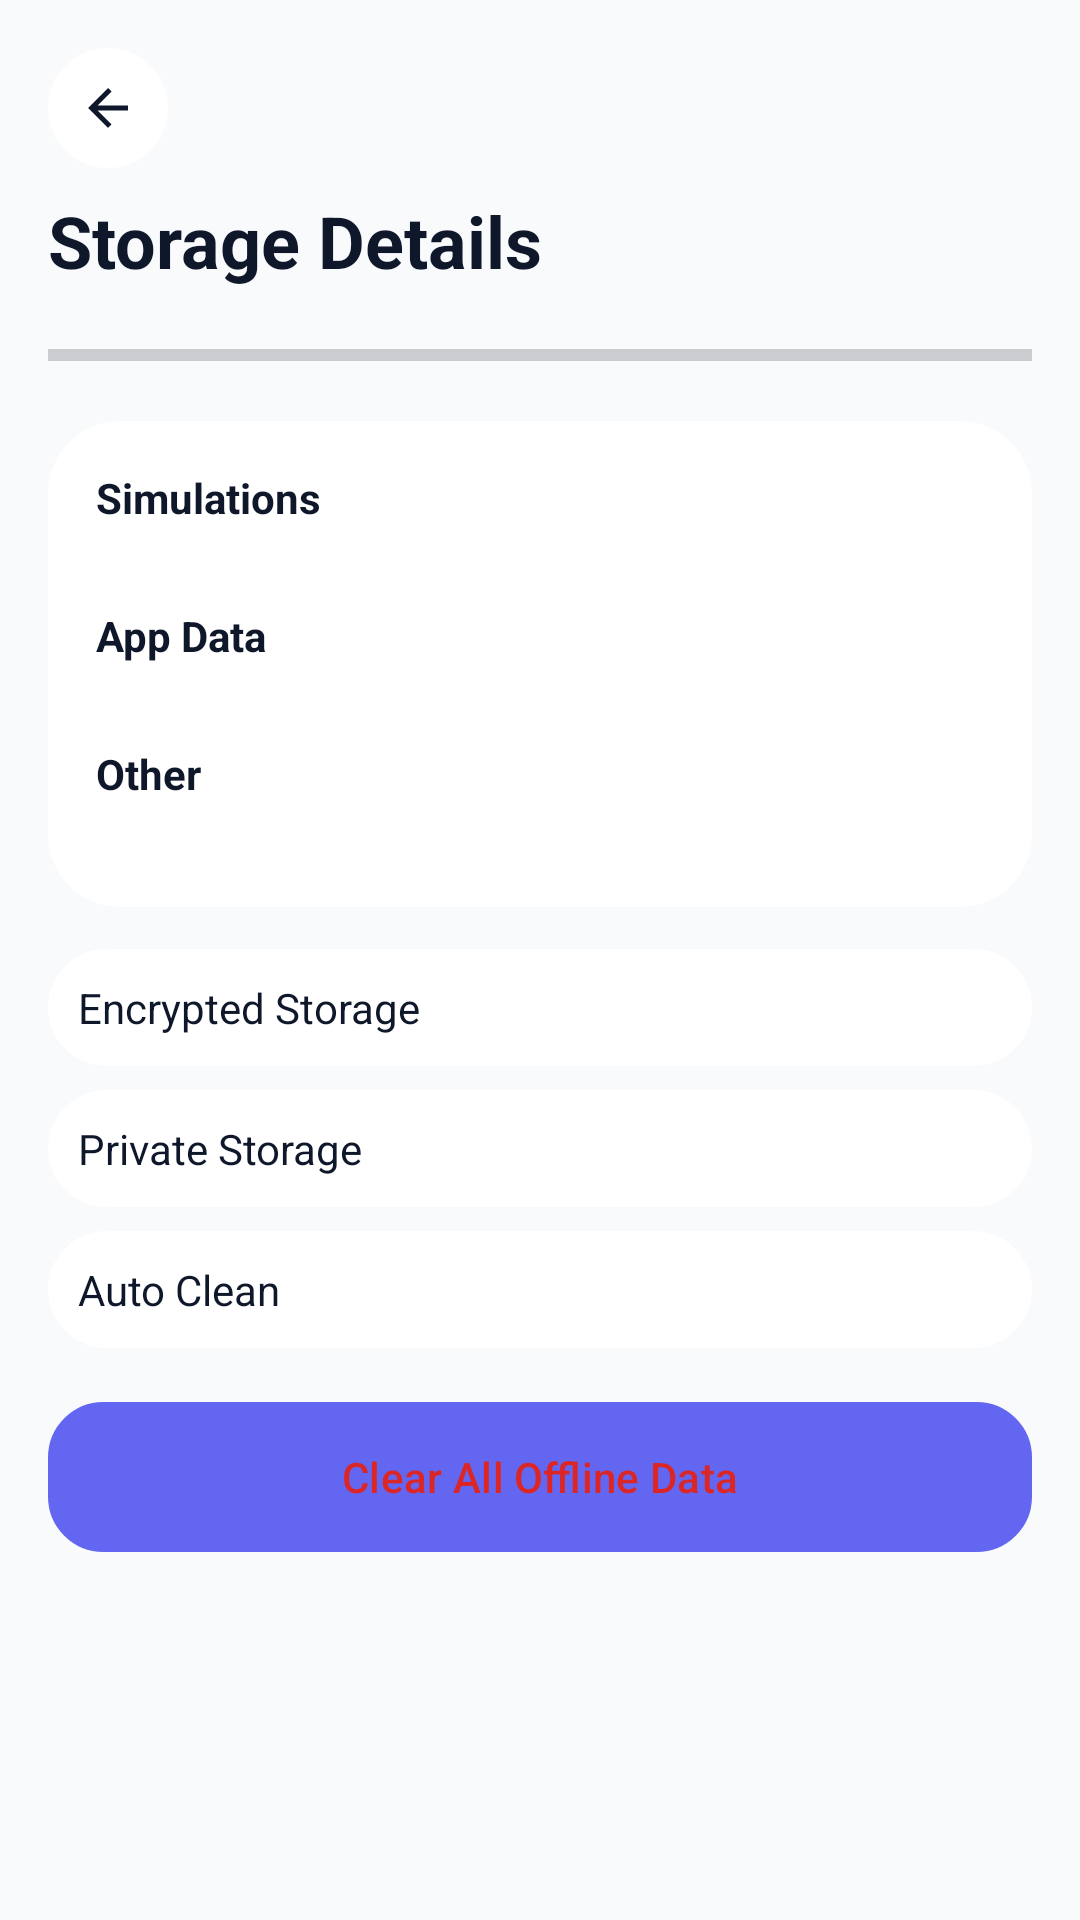

Screen size 1080w x 1920h. Icon name, then its box in pixels as (x1, y1, x2, y2):
back: (88, 88, 128, 128)
